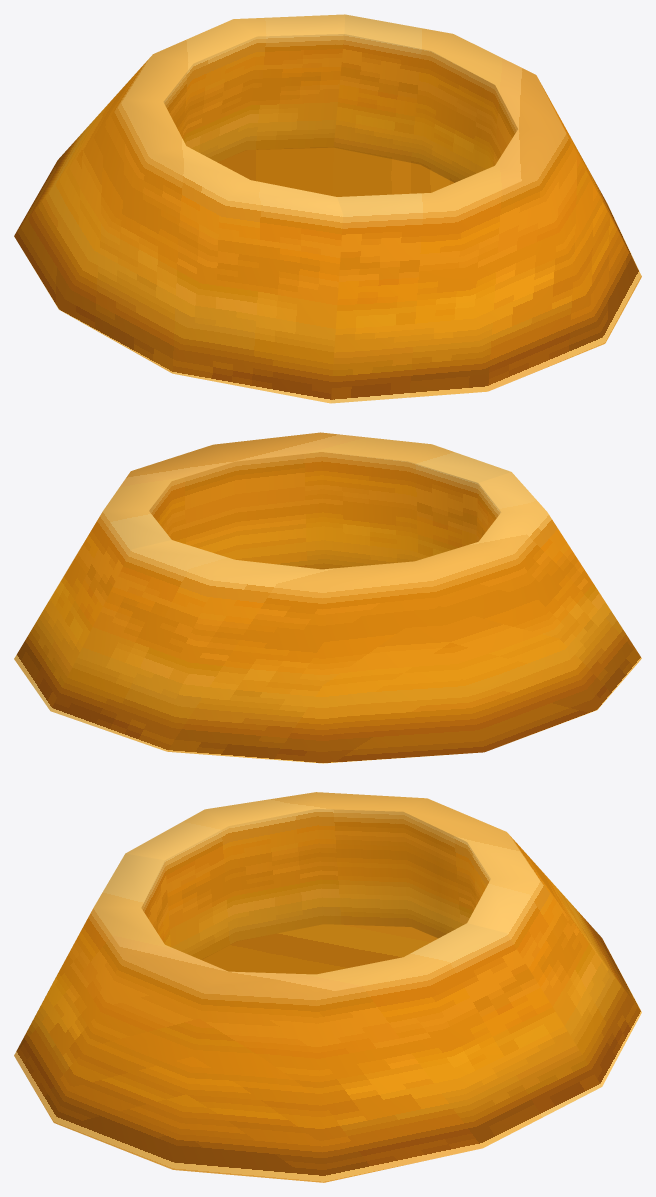
Rendered from a-dog-2.glb.
The picture shows the model from 3 angles, top to bottom: view 1: azimuth 30°, elevation 25°; view 2: azimuth 150°, elevation 25°; view 3: azimuth 270°, elevation 25°; orthographic projection.
Parts seen in each view (by area): view 1: a_dog_2; view 2: a_dog_2; view 3: a_dog_2.
Boxes of the visible parts, <box> form: a_dog_2: <box>14,14,641,403</box>; a_dog_2: <box>14,432,641,763</box>; a_dog_2: <box>14,792,641,1182</box>.
Size of the model in its own units: 80 by 25 by 79.
Materials: 1 (1 with a texture image).
